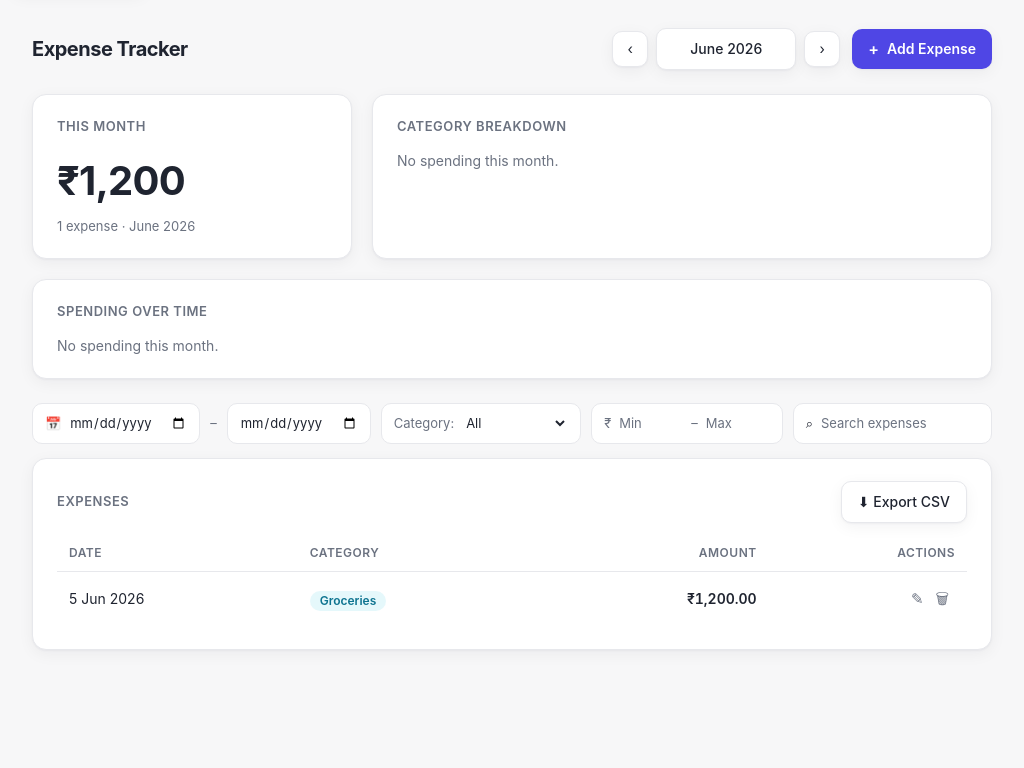
App — Phase 7 exit: add/edit/delete update the dashboard live › edits an expense: the modal pre-fills and the saved row + total update live
Expected: the text "5 Jun 2026" is shown, [57,572,298,626]
Click the button named "Edit expense": x=917, y=599 [905,584,930,614]
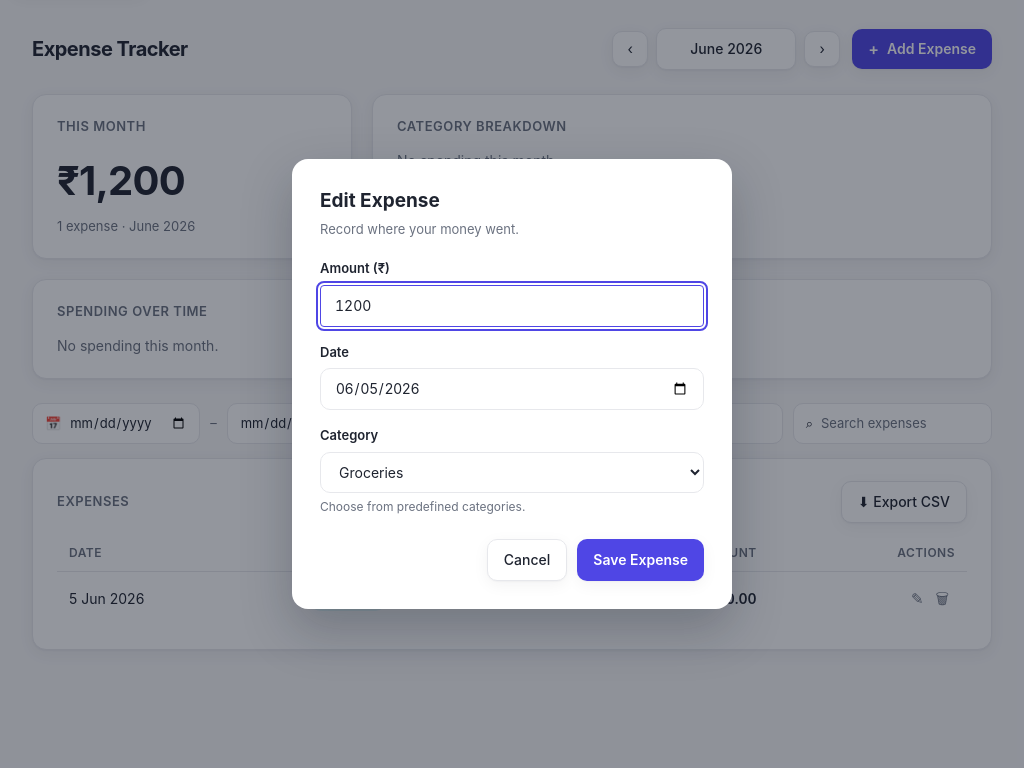
Expected: the heading "Edit Expense" is shown, [320,189,440,212]
Expected: the field labelled "Amount (₹)" holds "1200"
Expected: the date field labelled "Date" holds "2026-06-05", [320,368,704,410]
Replace the text in the field labelled "Amount (₹)" with "1750": x=512, y=306 [320,285,704,327]
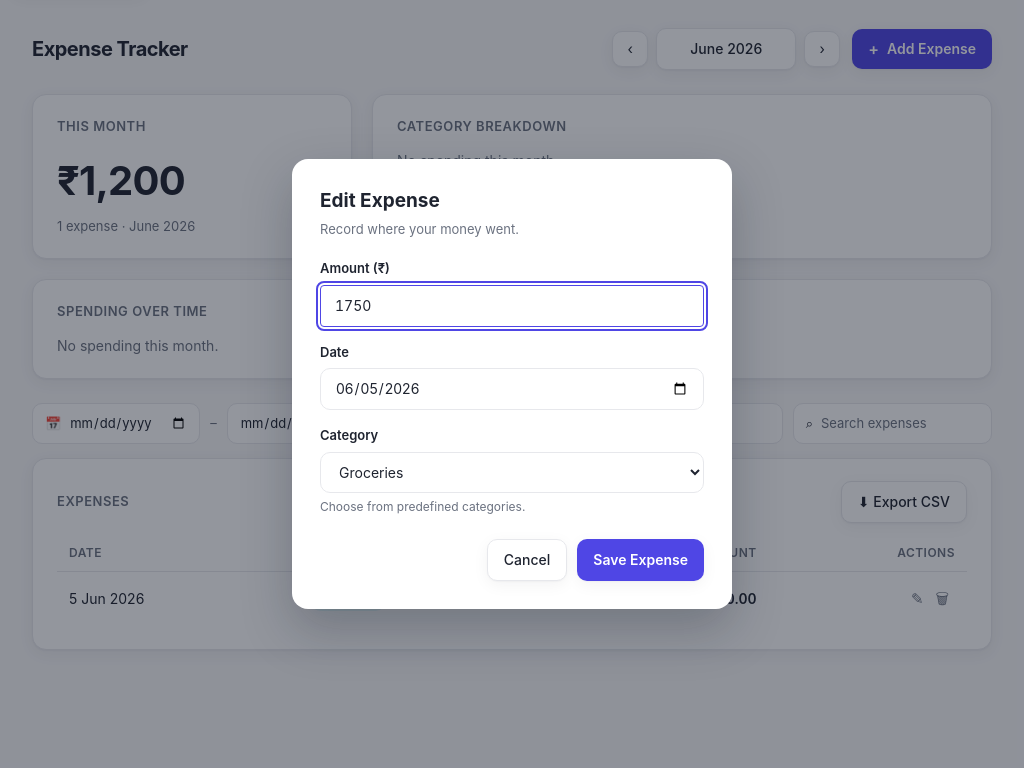
Click the button "Save Expense": x=641, y=560 [577,539,704,581]
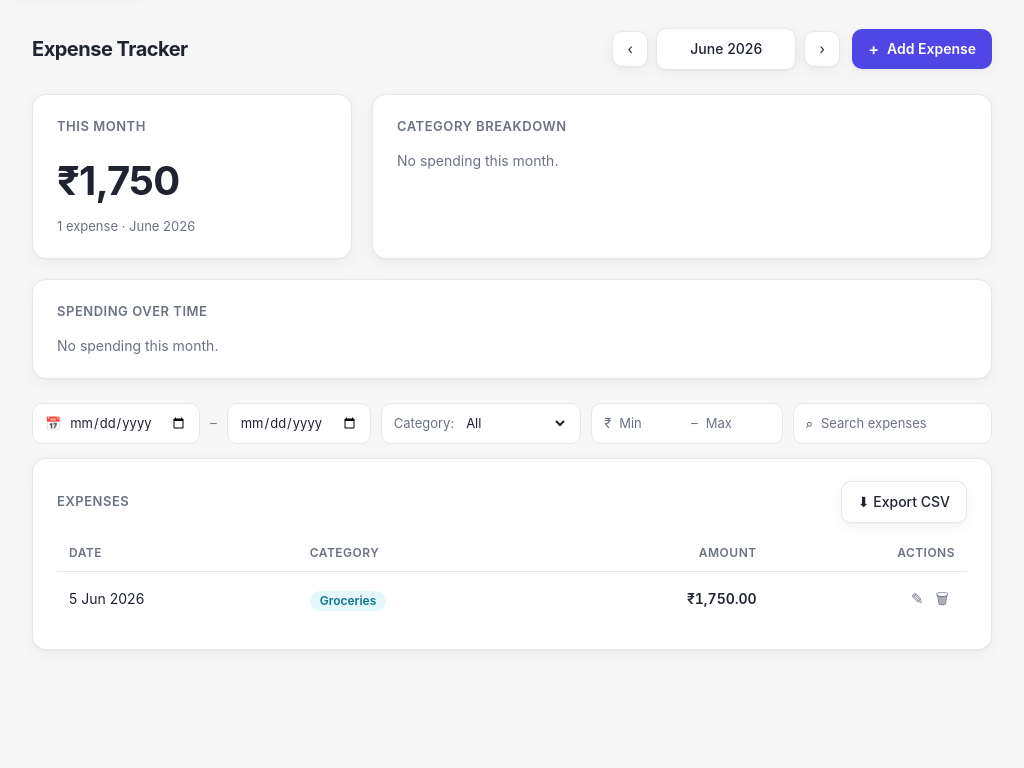
Expected: the heading "Edit Expense" is gone
Expected: the text "₹1,750.00" is shown, [541,572,769,626]
Expected: the text "₹1,200.00" is gone
